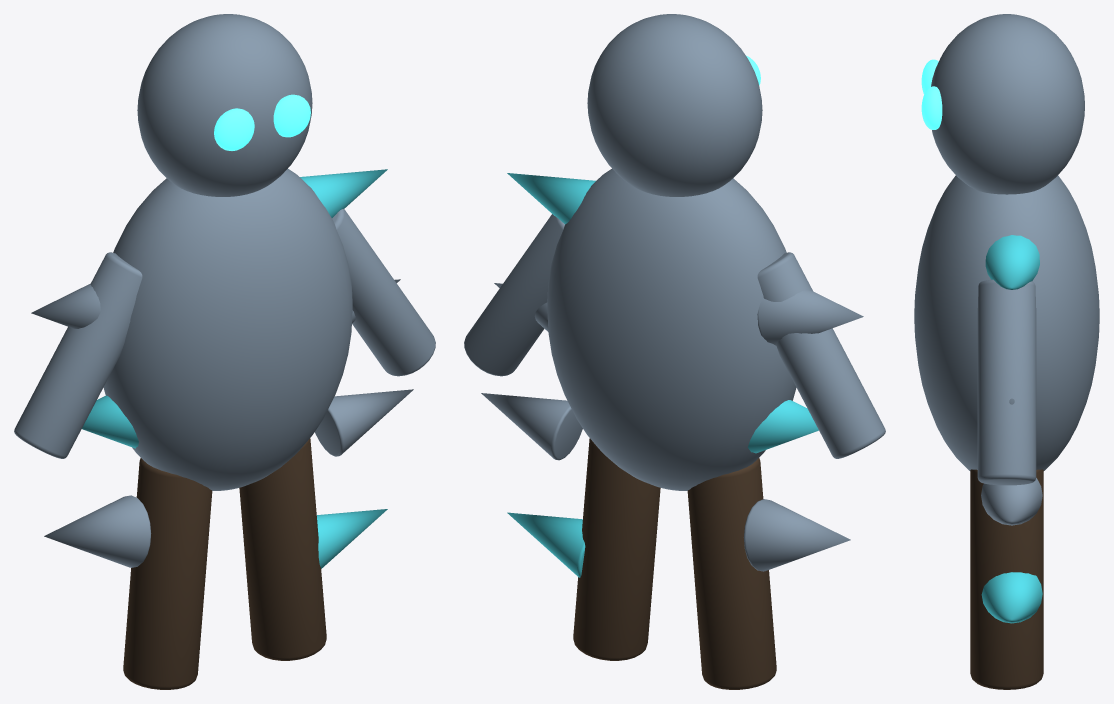
The model's file is humanoid_v3.glb.
The picture shows the model from 3 angles, left to right: view 1: azimuth 30°, elevation 25°; view 2: azimuth 150°, elevation 25°; view 3: azimuth 270°, elevation 25°; orthographic projection. The views are drawn at different scales.
Parts seen in each view (by area): view 1: BODY_PRIMARY, HEAD_PRIMARY, LEG_L_SECONDARY, LEG_R_SECONDARY, ARM_L_PRIMARY, ARM_R_PRIMARY, VARIANT_SPINE_PRIMARY, VARIANT_SPINE_PRIMARY.001, VARIANT_SPINE_ACCENT, VARIANT_SPINE_ACCENT.002, VARIANT_SPINE_PRIMARY.003, VARIANT_SPINE_ACCENT.001 (+2 smaller); view 2: BODY_PRIMARY, HEAD_PRIMARY, LEG_L_SECONDARY, LEG_R_SECONDARY, ARM_L_PRIMARY, ARM_R_PRIMARY, VARIANT_SPINE_PRIMARY, VARIANT_SPINE_PRIMARY.001, VARIANT_SPINE_PRIMARY.003, VARIANT_SPINE_ACCENT, VARIANT_SPINE_ACCENT.002, VARIANT_SPINE_ACCENT.001; view 3: BODY_PRIMARY, HEAD_PRIMARY, ARM_R_PRIMARY, LEG_R_SECONDARY, VARIANT_SPINE_ACCENT, VARIANT_SPINE_ACCENT.002, VARIANT_SPINE_PRIMARY.001, EYE_EMISSIVE.001, EYE_EMISSIVE.
Part boxes in pixels (x1,y1,x2,y2): BODY_PRIMARY: (103,169,352,490); HEAD_PRIMARY: (137,14,312,196); LEG_L_SECONDARY: (123,458,212,689); LEG_R_SECONDARY: (239,438,326,660); ARM_L_PRIMARY: (14,252,142,458); ARM_R_PRIMARY: (332,209,435,376); VARIANT_SPINE_PRIMARY: (44,495,151,567); VARIANT_SPINE_PRIMARY.001: (315,389,413,456); VARIANT_SPINE_ACCENT: (316,509,387,568); VARIANT_SPINE_ACCENT.002: (300,169,387,217); VARIANT_SPINE_PRIMARY.003: (31,283,130,328); VARIANT_SPINE_ACCENT.001: (82,395,138,448); BODY_PRIMARY: (547,169,796,490); HEAD_PRIMARY: (587,14,762,196); LEG_L_SECONDARY: (687,458,776,689); LEG_R_SECONDARY: (573,438,660,660); ARM_L_PRIMARY: (757,252,885,458); ARM_R_PRIMARY: (464,214,564,376); VARIANT_SPINE_PRIMARY: (743,499,850,571); VARIANT_SPINE_PRIMARY.001: (481,393,582,460); VARIANT_SPINE_PRIMARY.003: (757,289,863,345); VARIANT_SPINE_ACCENT: (507,512,585,577); VARIANT_SPINE_ACCENT.002: (507,173,595,224); VARIANT_SPINE_ACCENT.001: (748,400,818,453); BODY_PRIMARY: (914,175,1099,470); HEAD_PRIMARY: (931,14,1084,194); ARM_R_PRIMARY: (977,279,1036,485); LEG_R_SECONDARY: (970,469,1043,689); VARIANT_SPINE_ACCENT: (981,572,1042,623); VARIANT_SPINE_ACCENT.002: (985,235,1039,289); VARIANT_SPINE_PRIMARY.001: (981,478,1042,525); EYE_EMISSIVE.001: (921,86,942,129); EYE_EMISSIVE: (921,59,938,94).
Size of the model in its own units: 1.91 by 2.84 by 0.76.
